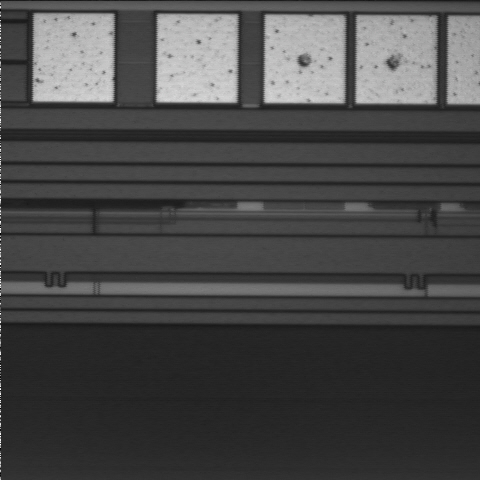pad: (157, 15, 236, 102), (265, 16, 344, 103), (34, 15, 113, 101), (357, 18, 434, 103)
